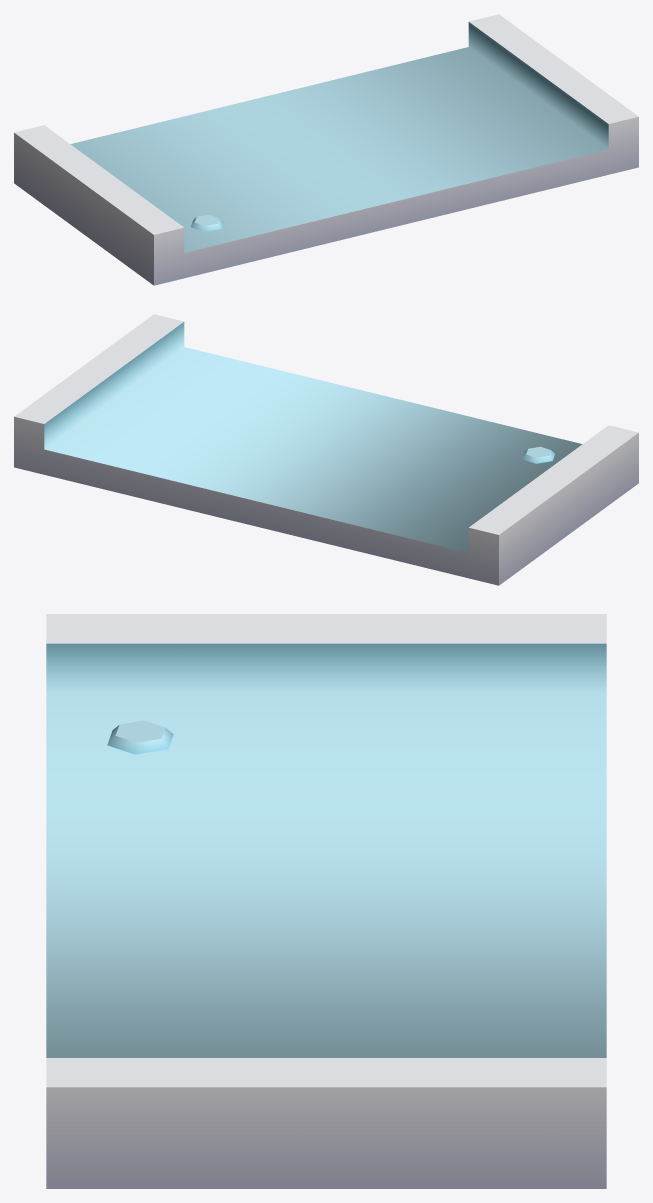
The model's file is kenney-tower-defense-snow-tile-wide-straight.glb.
3 renders of one model, top to bottom at view 1: azimuth 30°, elevation 25°; view 2: azimuth 150°, elevation 25°; view 3: azimuth 270°, elevation 25°, orthographic. The views are drawn at different scales.
Visible parts, largest first — view 1: snow-tile-wide-straight; view 2: snow-tile-wide-straight; view 3: snow-tile-wide-straight.
Boxes of the visible parts, x1,y1,x2,y2 form: snow-tile-wide-straight: (14, 14, 638, 285); snow-tile-wide-straight: (14, 314, 638, 585); snow-tile-wide-straight: (46, 614, 606, 1188).
Size of the model in its own units: 2 by 0.2 by 1.
1 material, 1 textured.
